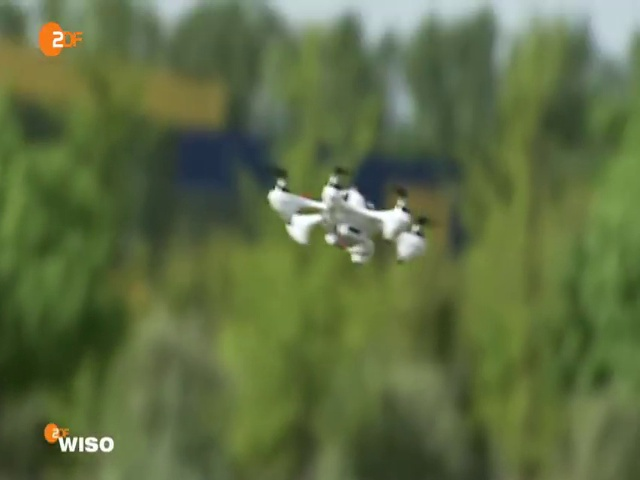drone: (245, 157, 448, 270)
